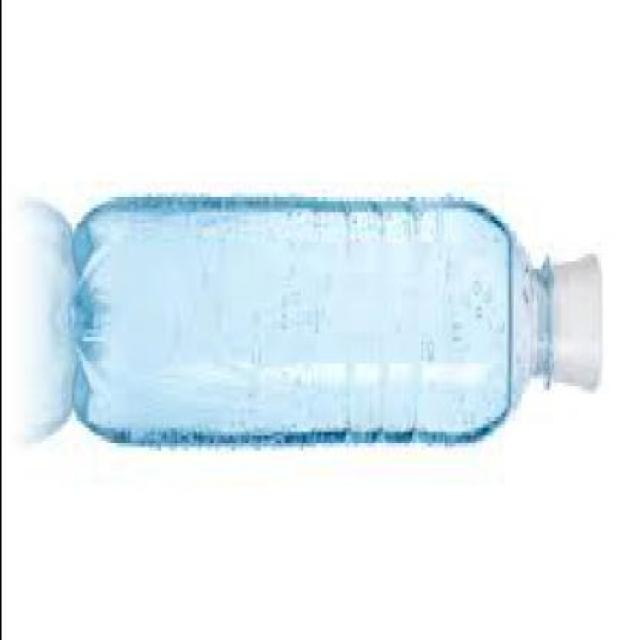PLASTIC: (71, 193, 603, 447), (548, 254, 606, 389)
